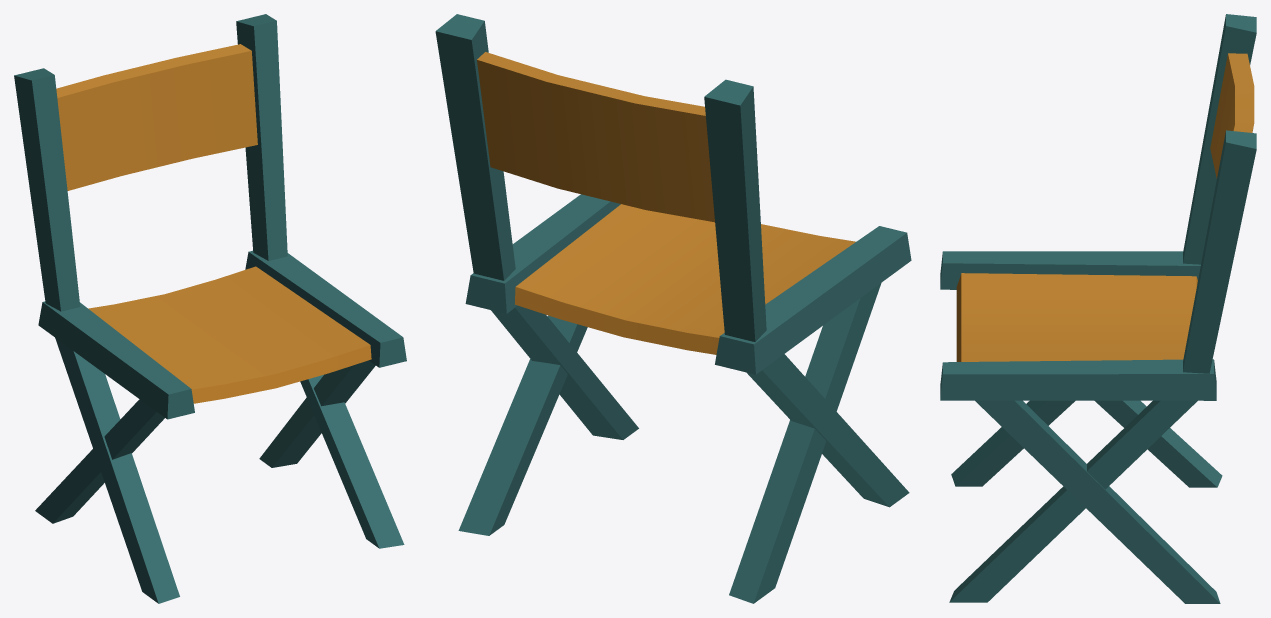
The model's file is SM_Chair_B.fbx.
3 renders of one model, left to right at view 1: azimuth 30°, elevation 25°; view 2: azimuth 150°, elevation 25°; view 3: azimuth 270°, elevation 25°, orthographic. The views are drawn at different scales.
Visible parts, largest first — view 1: SM_Chair_B; view 2: SM_Chair_B; view 3: SM_Chair_B.
Boxes of the visible parts, <box> form: SM_Chair_B: <box>14,14,406,603</box>; SM_Chair_B: <box>435,14,911,603</box>; SM_Chair_B: <box>940,14,1256,603</box>.
Bounding box in the file's own units: 63.68 × 104 × 64.54.
